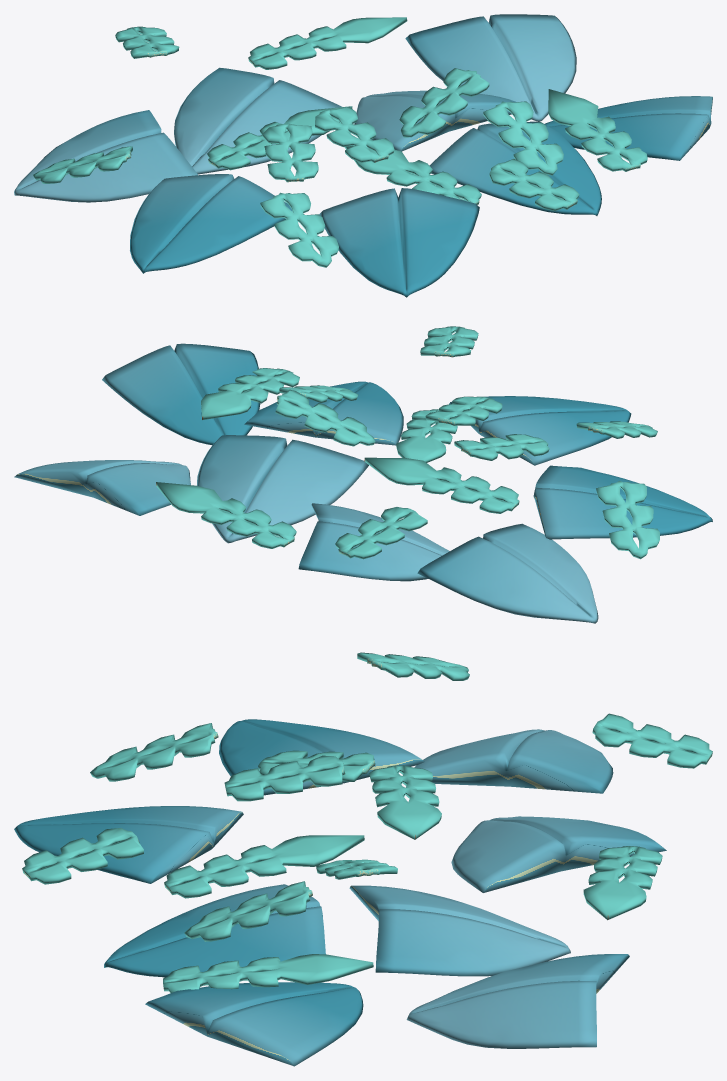
File: FlorDeGelo_cortada.fbx
3 views of the same model, one above another, from view 1: azimuth 30°, elevation 25°; view 2: azimuth 150°, elevation 25°; view 3: azimuth 270°, elevation 25° (orthographic). The views are drawn at different scales.
Parts seen in each view (by area): view 1: FlorDeGelo_cortado; view 2: FlorDeGelo_cortado; view 3: FlorDeGelo_cortado.
Boxes of the visible parts, x1=… form: FlorDeGelo_cortado: x1=14, y1=14, x2=712, y2=297; FlorDeGelo_cortado: x1=14, y1=326, x2=712, y2=623; FlorDeGelo_cortado: x1=14, y1=652, x2=712, y2=1066.
Size of the model in its own units: 164 by 22.59 by 129.
1 material, 1 textured.
